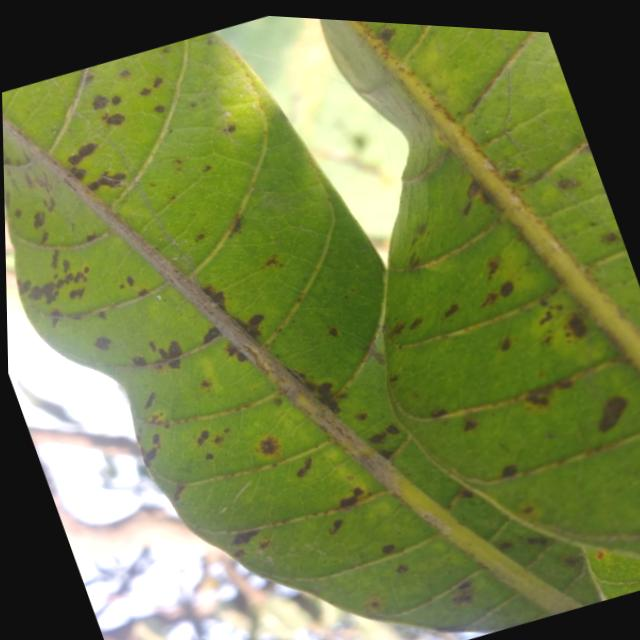Anthracnose: (371, 271, 639, 502), (126, 236, 345, 485)
